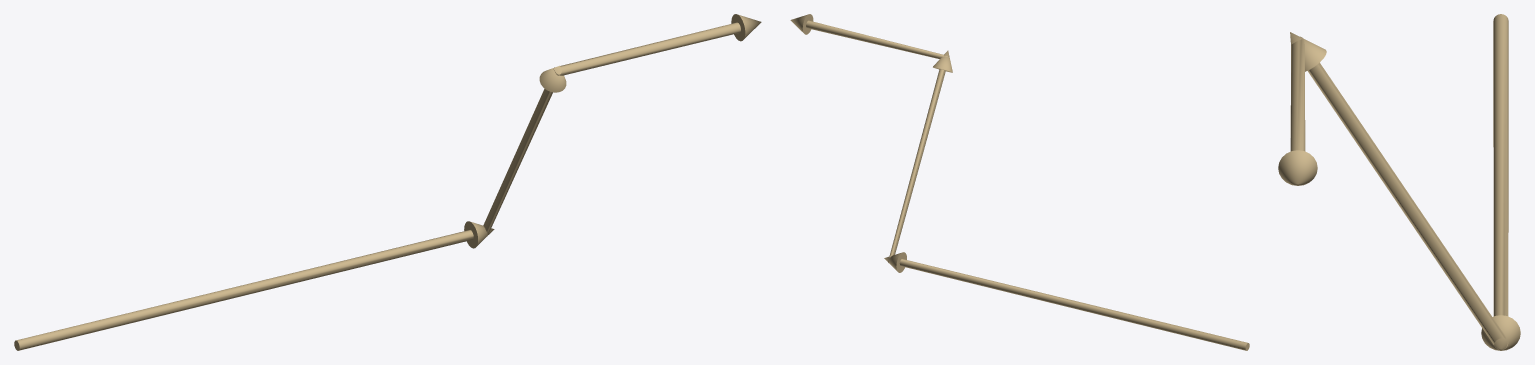
The model's file is centralized_lubrication_system_flow.glb.
3 views of the same model, side by side, from view 1: azimuth 30°, elevation 25°; view 2: azimuth 150°, elevation 25°; view 3: azimuth 270°, elevation 25° (orthographic). The views are drawn at different scales.
Visible parts, largest first — view 1: main_line; view 2: main_line; view 3: main_line.
Boxes of the visible parts, x1=… form: main_line: x1=14, y1=14, x2=761, y2=350; main_line: x1=790, y1=14, x2=1249, y2=350; main_line: x1=1278, y1=14, x2=1520, y2=350.
Bounding box in the file's own units: 0.862 × 0.2912 × 0.1912.
